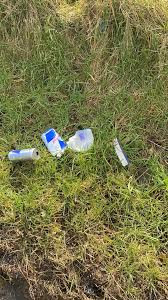cardboard: (39, 127, 64, 160)
metal: (6, 144, 41, 170)
plastic: (63, 122, 94, 157)
trash: (107, 136, 132, 173)
